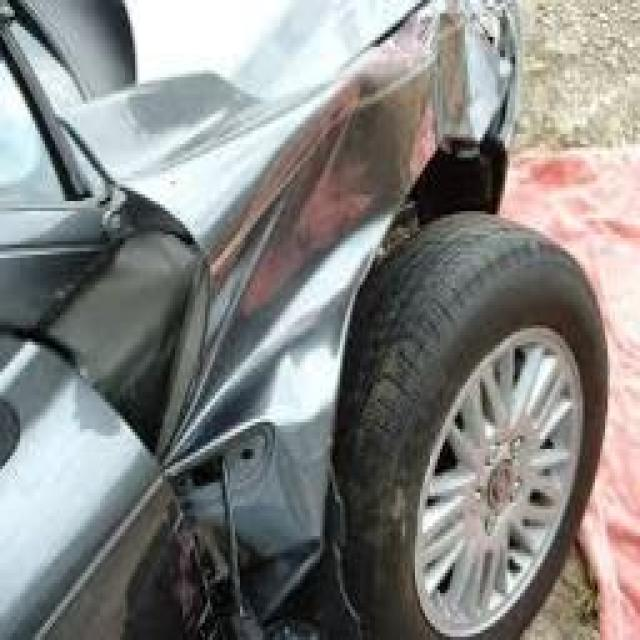Fender: (118, 74, 498, 566)
